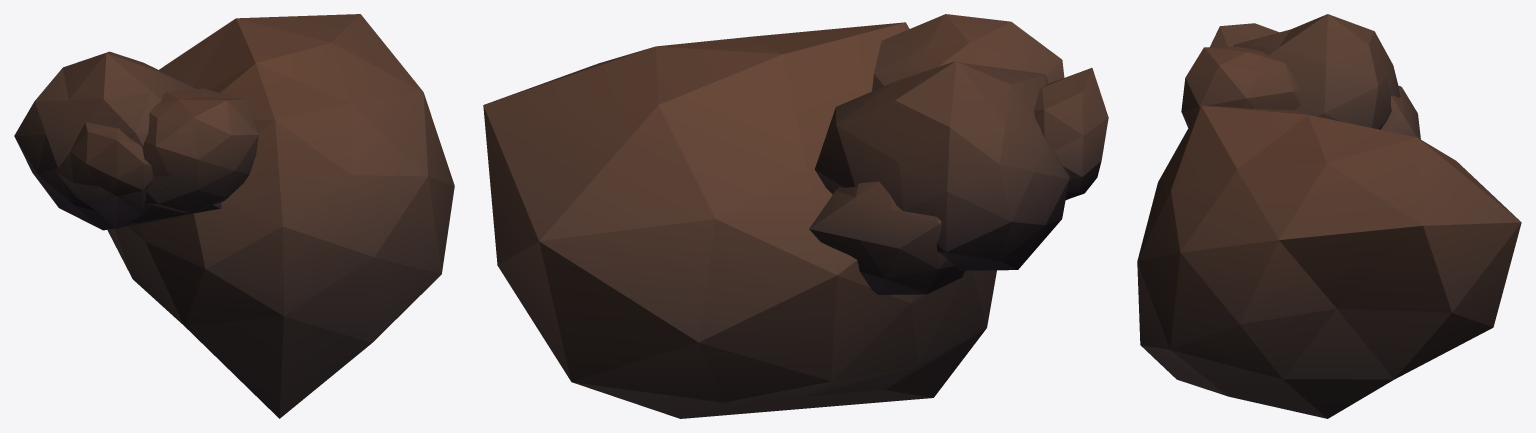
The model's file is boulders.lod0.glb.
3 renders of one model, left to right at view 1: azimuth 30°, elevation 25°; view 2: azimuth 150°, elevation 25°; view 3: azimuth 270°, elevation 25°, orthographic. The views are drawn at different scales.
Visible parts, largest first — view 1: boulders_s1_lod0; view 2: boulders_s1_lod0; view 3: boulders_s1_lod0.
Part boxes in pixels (box(x1,y1,x2,y2)): boulders_s1_lod0: box(14, 14, 454, 418); boulders_s1_lod0: box(483, 14, 1108, 418); boulders_s1_lod0: box(1137, 14, 1521, 418).
Bounding box in the file's own units: 1.76 × 1.48 × 1.61.
